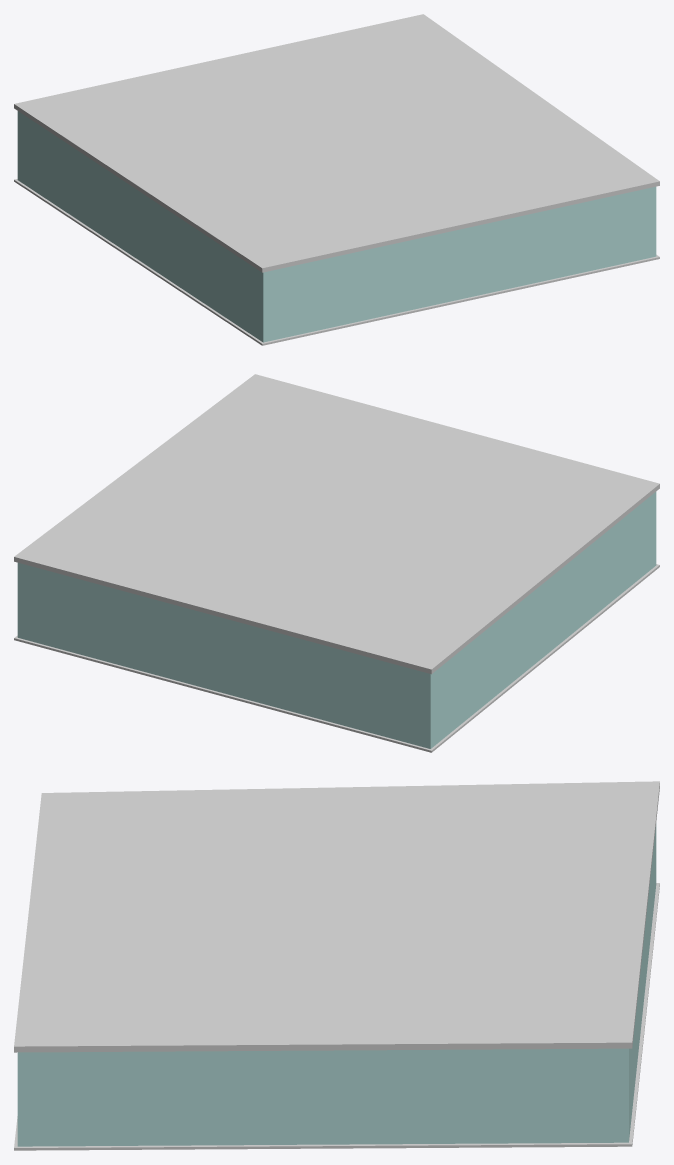
Rendered from KaitKoubou.fbx.
The picture shows the model from 3 angles, top to bottom: view 1: azimuth 30°, elevation 25°; view 2: azimuth 150°, elevation 25°; view 3: azimuth 270°, elevation 25°; orthographic projection. The views are drawn at different scales.
Parts seen in each view (by area): view 1: Cube.004; view 2: Cube.004; view 3: Cube.004.
Part boxes in pixels (box(x1,y1,x2,y2)): Cube.004: box(14, 14, 659, 345); Cube.004: box(14, 374, 659, 752); Cube.004: box(14, 781, 659, 1150).
Bounding box in the file's own units: 60.3 × 11.03 × 62.08.
